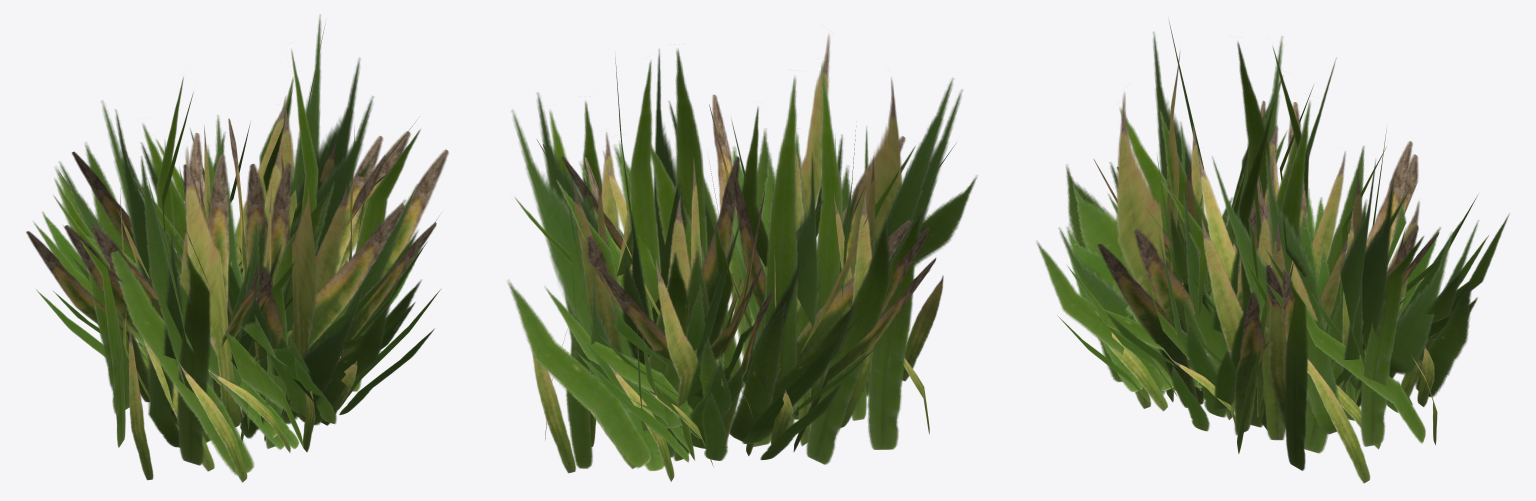
File: grass1.glb
3 views of the same model, side by side, from view 1: azimuth 30°, elevation 25°; view 2: azimuth 150°, elevation 25°; view 3: azimuth 270°, elevation 25° (orthographic). The views are drawn at different scales.
Visible parts, largest first — view 1: grass_variant_1; view 2: grass_variant_1; view 3: grass_variant_1.
Boxes of the visible parts, box(x1,y1,x2,y2) form: grass_variant_1: box(26, 14, 448, 482); grass_variant_1: box(507, 34, 977, 481); grass_variant_1: box(1036, 21, 1509, 483).
Size of the model in its own units: 38.84 by 32.84 by 41.55.
1 material, 1 textured.
